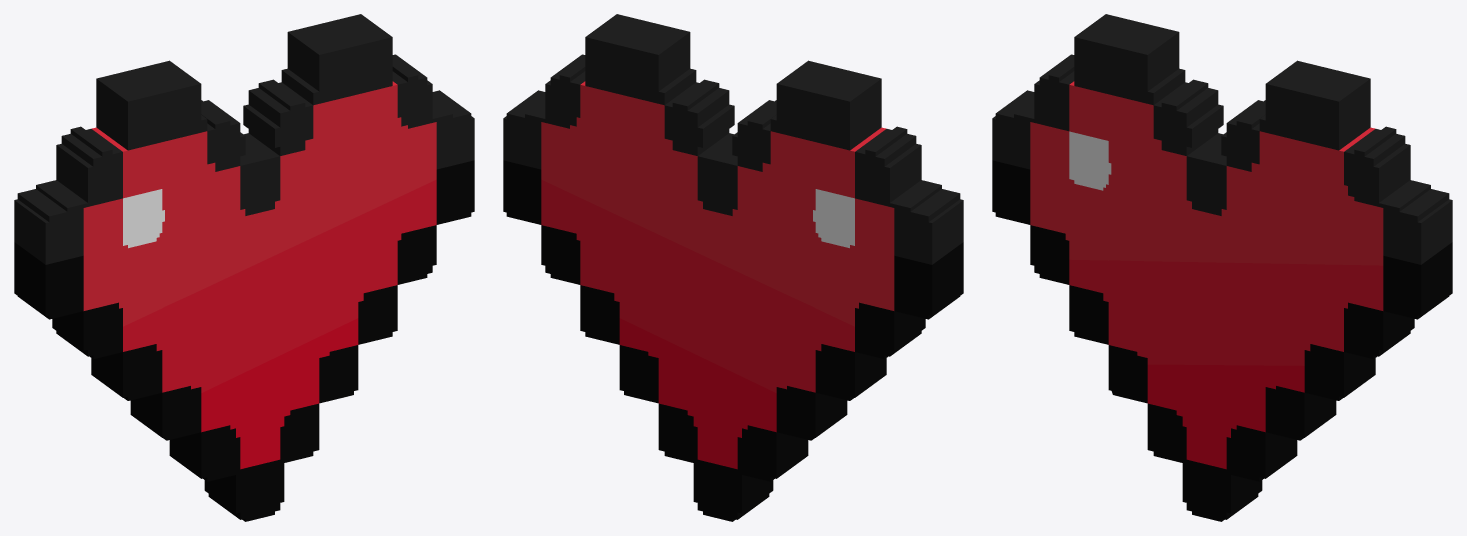
File: heart.fbx
3 views of the same model, side by side, from view 1: azimuth 30°, elevation 25°; view 2: azimuth 150°, elevation 25°; view 3: azimuth 330°, elevation 25° (orthographic).
Parts seen in each view (by area): view 1: Plane; view 2: Plane; view 3: Plane.
Boxes of the visible parts, box(x1,y1,x2,y2) form: Plane: box(14, 14, 474, 521); Plane: box(503, 14, 963, 521); Plane: box(992, 14, 1452, 521).
Bounding box in the file's own units: 100 × 100 × 12.74.
